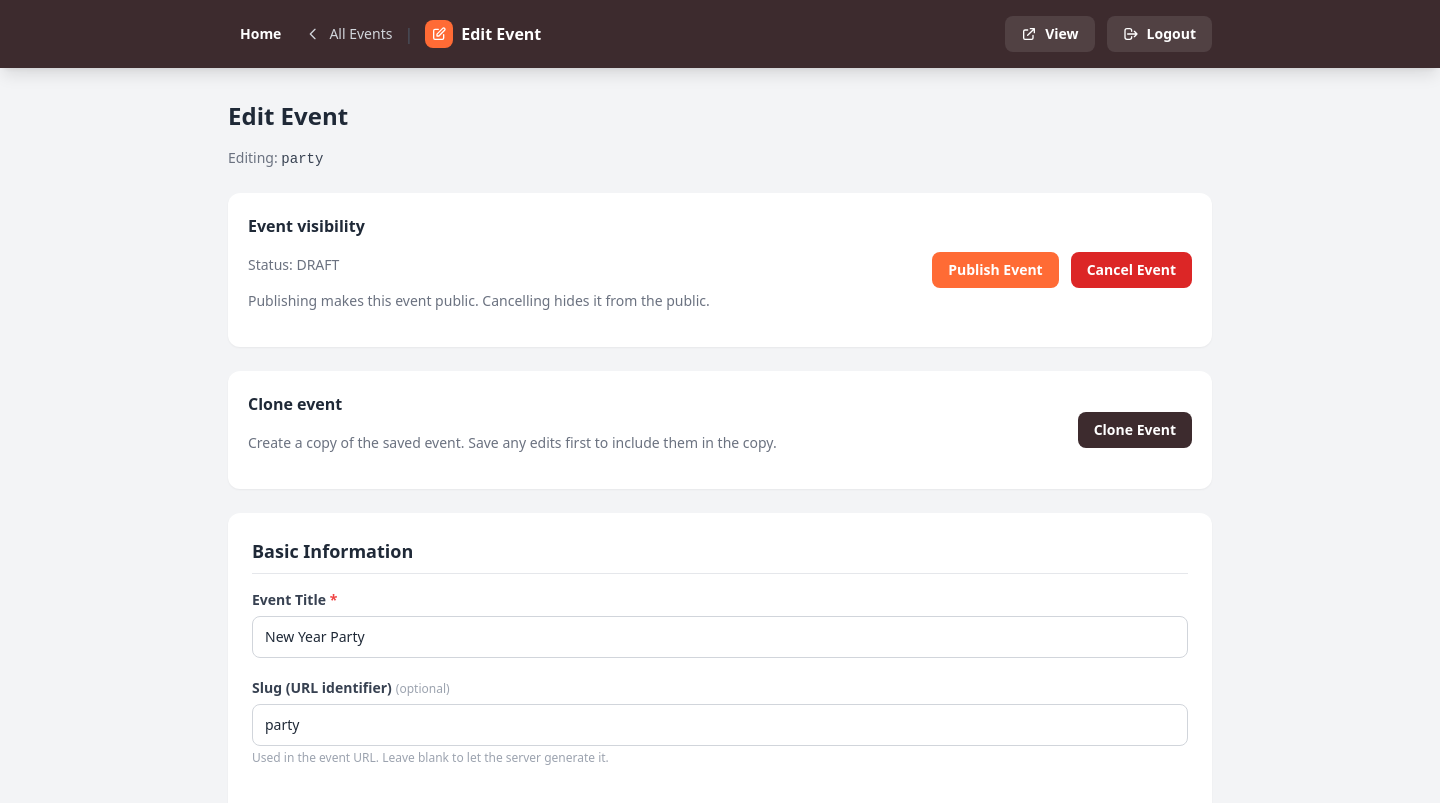
Test: AdminEventEdit › AdminEventEdit publishes a draft via the publish endpoint
Click the button "Publish Event": (995, 270) [932, 252, 1059, 288]
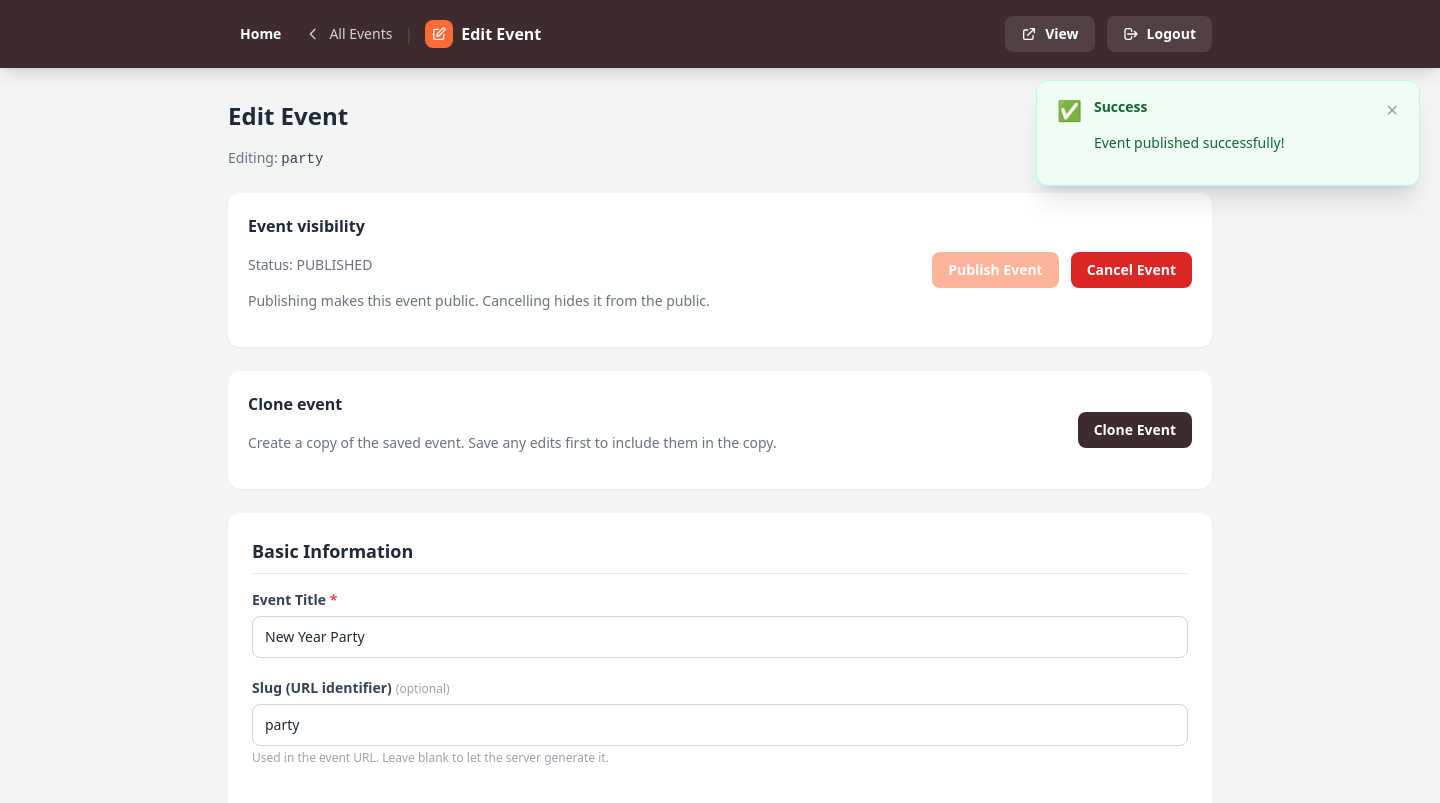
Expected: the text "Status: PUBLISHED" is shown, [248, 255, 372, 274]
